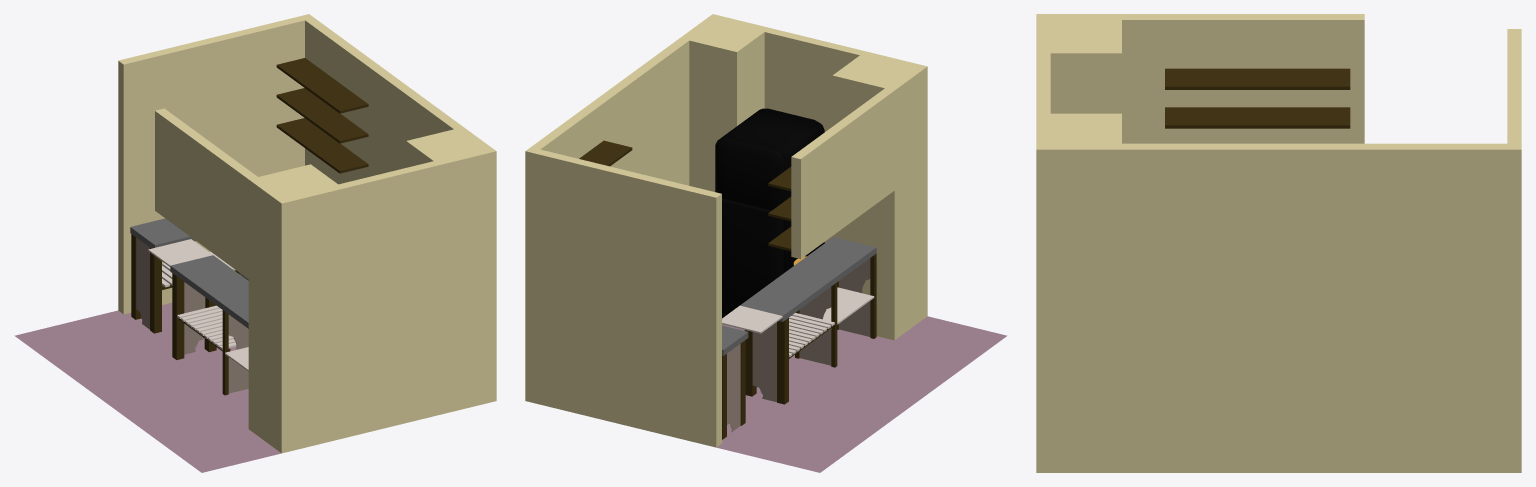
Rendered from Kitchen v2.fbx.
3 views of the same model, side by side, from view 1: azimuth 30°, elevation 25°; view 2: azimuth 150°, elevation 25°; view 3: azimuth 270°, elevation 25° (orthographic). The views are drawn at different scales.
Visible parts, largest first — view 1: Walls, Walls.001, Walls.002, Floor, Cube.024, Cube.046, Cube.044, Cube.045, Cube.037, Cube, Cube.005, Cube.030 (+6 smaller); view 2: Walls.002, Walls.001, Floor, Walls, Main Door, Cube.024, Freezer Door, Body, Cube.033, Cube.027, Cube.030, Cube.037 (+10 smaller); view 3: Walls.002, Walls, Walls.001, Cube.042, Cube.043.
Part boxes in pixels (bbox=[...]): Walls: bbox=[338, 127, 496, 438]; Walls.001: bbox=[155, 108, 343, 453]; Walls.002: bbox=[118, 14, 462, 314]; Floor: bbox=[14, 302, 281, 472]; Cube.024: bbox=[170, 255, 248, 328]; Cube.046: bbox=[276, 58, 368, 113]; Cube.044: bbox=[276, 118, 368, 173]; Cube.045: bbox=[276, 88, 368, 143]; Cube.037: bbox=[177, 305, 236, 349]; Cube: bbox=[130, 218, 195, 248]; Cube.005: bbox=[136, 237, 149, 329]; Cube.030: bbox=[228, 314, 248, 393]; Walls.002: bbox=[525, 38, 721, 447]; Walls.001: bbox=[791, 51, 927, 340]; Floor: bbox=[717, 316, 1007, 472]; Walls: bbox=[680, 14, 864, 242]; Main Door: bbox=[722, 198, 784, 318]; Cube.024: bbox=[740, 237, 876, 321]; Freezer Door: bbox=[715, 137, 784, 210]; Body: bbox=[720, 108, 824, 272]; Cube.033: bbox=[752, 322, 776, 402]; Cube.027: bbox=[839, 258, 870, 336]; Cube.030: bbox=[799, 287, 831, 365]; Cube.037: bbox=[789, 313, 834, 357]; Walls.002: bbox=[1122, 29, 1521, 472]; Walls: bbox=[1036, 53, 1122, 472]; Walls.001: bbox=[1036, 14, 1364, 143]; Cube.042: bbox=[1165, 107, 1350, 128]; Cube.043: bbox=[1165, 68, 1350, 89].
Bounding box in the file's own units: 309 × 250 × 340.
